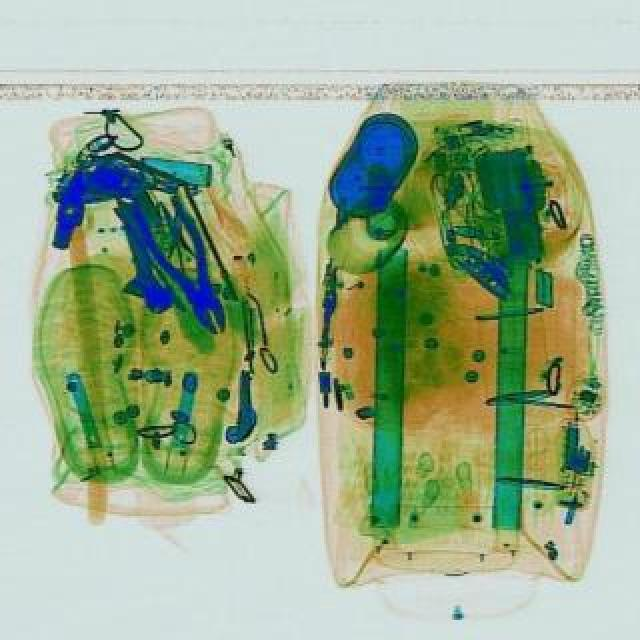scissors: (96, 182, 176, 318)
wrench: (130, 188, 242, 344)
